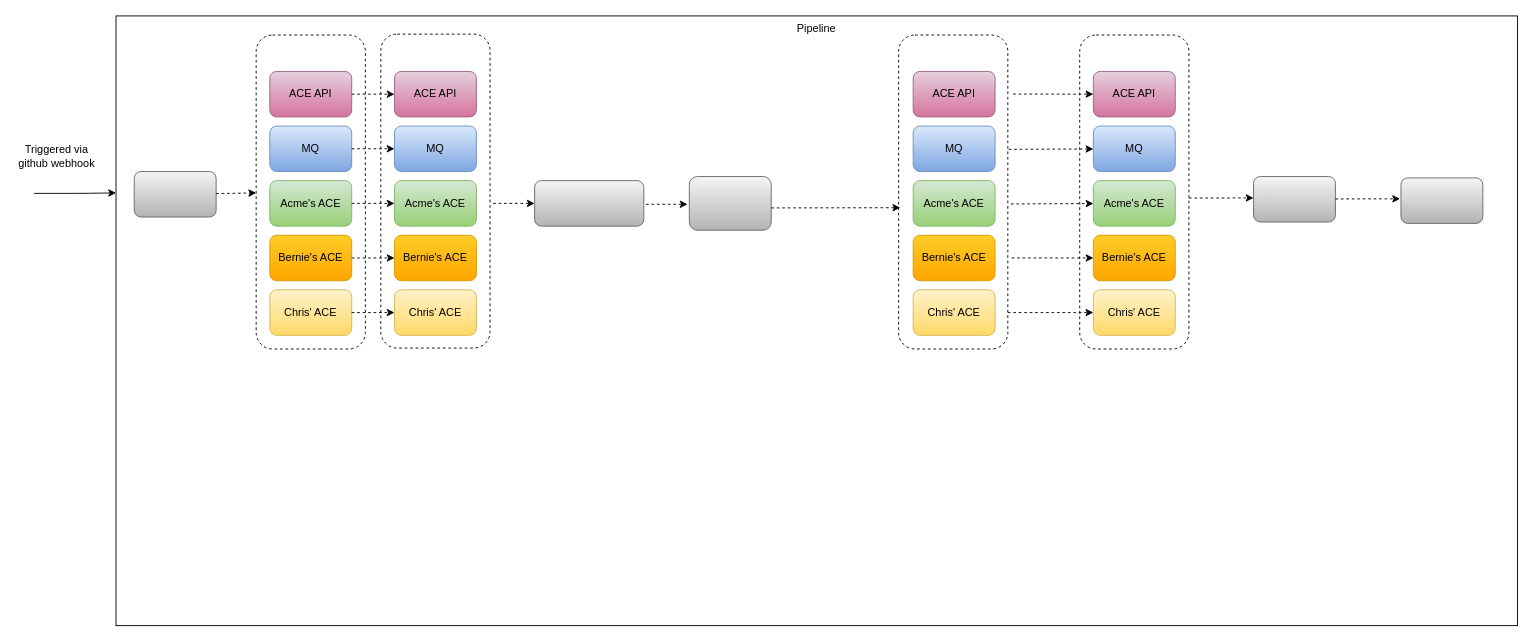
This 1533x642 diagram has some shape labels left out. The shapes that lost their labels are listed below. From the top down, each one's box as (x1, y1, x2, y2) in pixels, then its label:
(133, 171, 216, 217): Clone git repo
(255, 34, 365, 349): Build images
(380, 33, 490, 348): Deploy to dev and wait for rollout
(534, 180, 644, 226): Setup APIC resources in DEV
(688, 176, 771, 230): Test APIC API in Dev environment
(898, 34, 1008, 349): Copy images to test
(1079, 34, 1189, 349): Deploy to test and wait for rollout
(1253, 176, 1335, 222): Setup APIC Resources in Test
(1400, 177, 1483, 223): Test APIC API in Test enivronment
